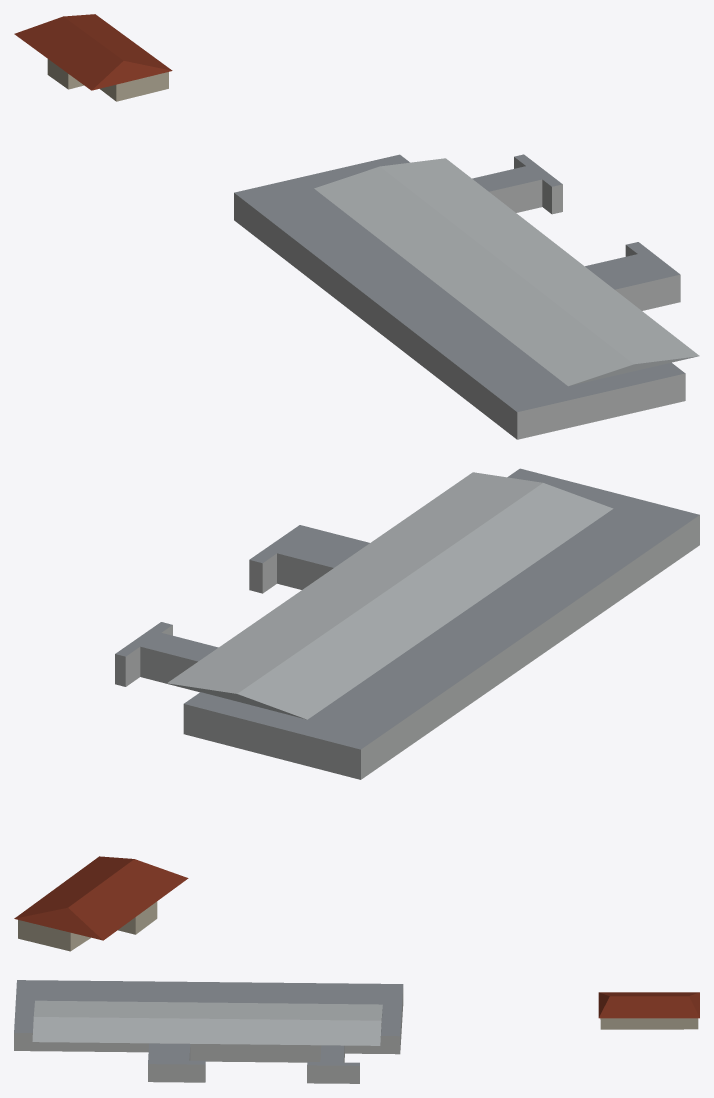
File: bandara-terminal-lod2.glb
3 views of the same model, one above another, from view 1: azimuth 30°, elevation 25°; view 2: azimuth 150°, elevation 25°; view 3: azimuth 270°, elevation 25° (orthographic). The views are drawn at different scales.
Parts seen in each view (by area): view 1: bandara-terminal_LOD2; view 2: bandara-terminal_LOD2; view 3: bandara-terminal_LOD2.
Boxes of the visible parts, x1,y1,x2,y2 form: bandara-terminal_LOD2: (14, 14, 699, 439); bandara-terminal_LOD2: (14, 468, 699, 951); bandara-terminal_LOD2: (14, 980, 699, 1083).
Bounding box in the file's own units: 122 × 15 × 414.
